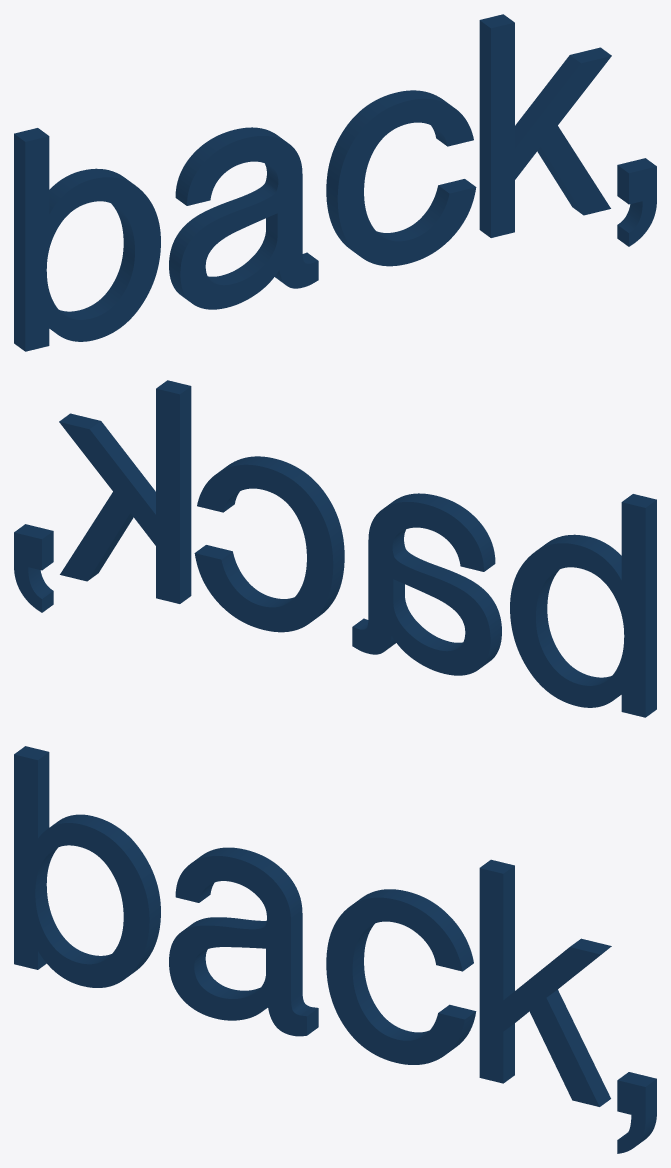
The model's file is back.gltf.
3 renders of one model, top to bottom at view 1: azimuth 30°, elevation 25°; view 2: azimuth 150°, elevation 25°; view 3: azimuth 330°, elevation 25°, orthographic.
Bounding box in the file's own units: 3.19 × 1.22 × 0.1.
